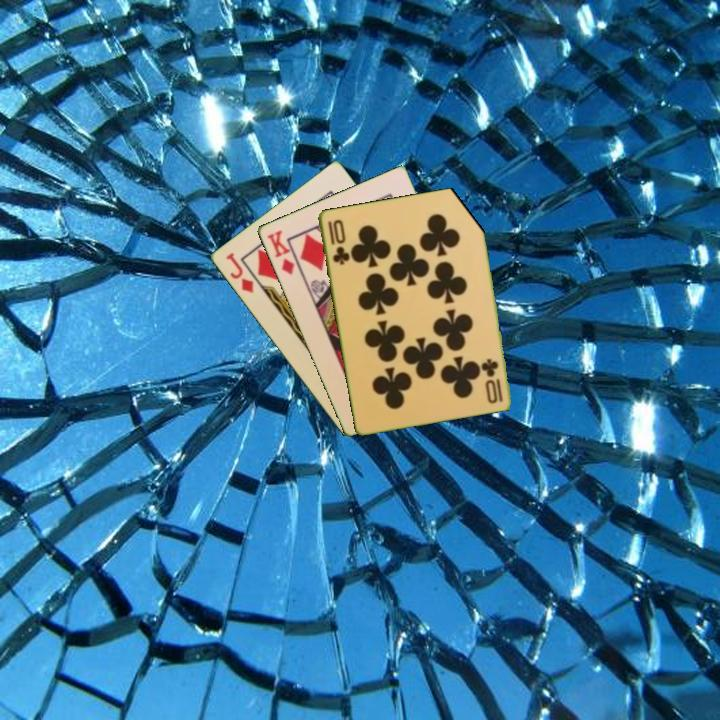10c: (324, 216, 351, 268), (480, 355, 505, 406)
Jd: (222, 249, 256, 296)
Kd: (263, 226, 297, 278)
